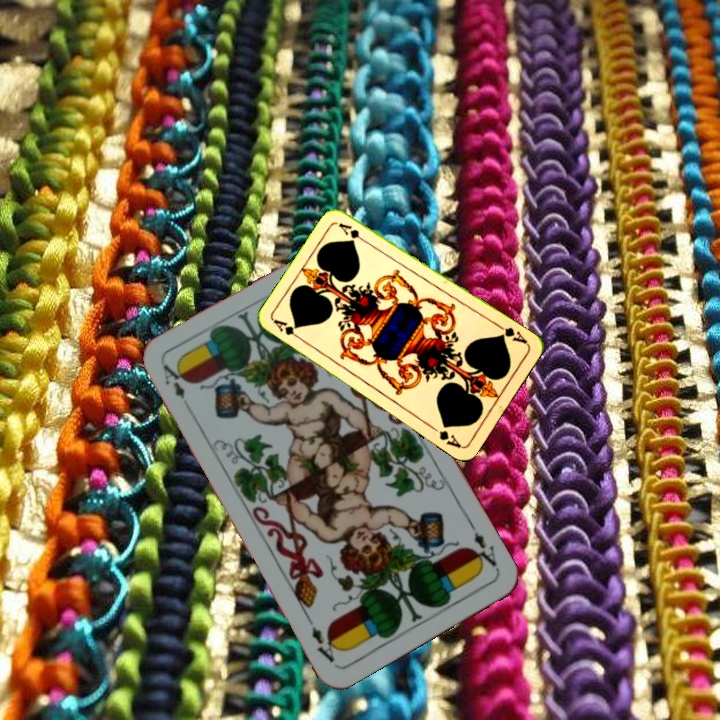EA: (465, 518, 501, 572), (158, 360, 188, 402)
GA: (270, 315, 306, 344), (493, 320, 530, 347)
